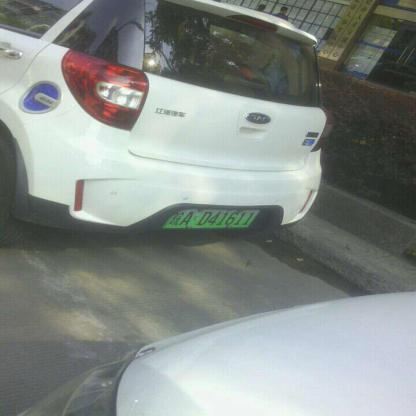lp: (164, 209, 262, 227)
